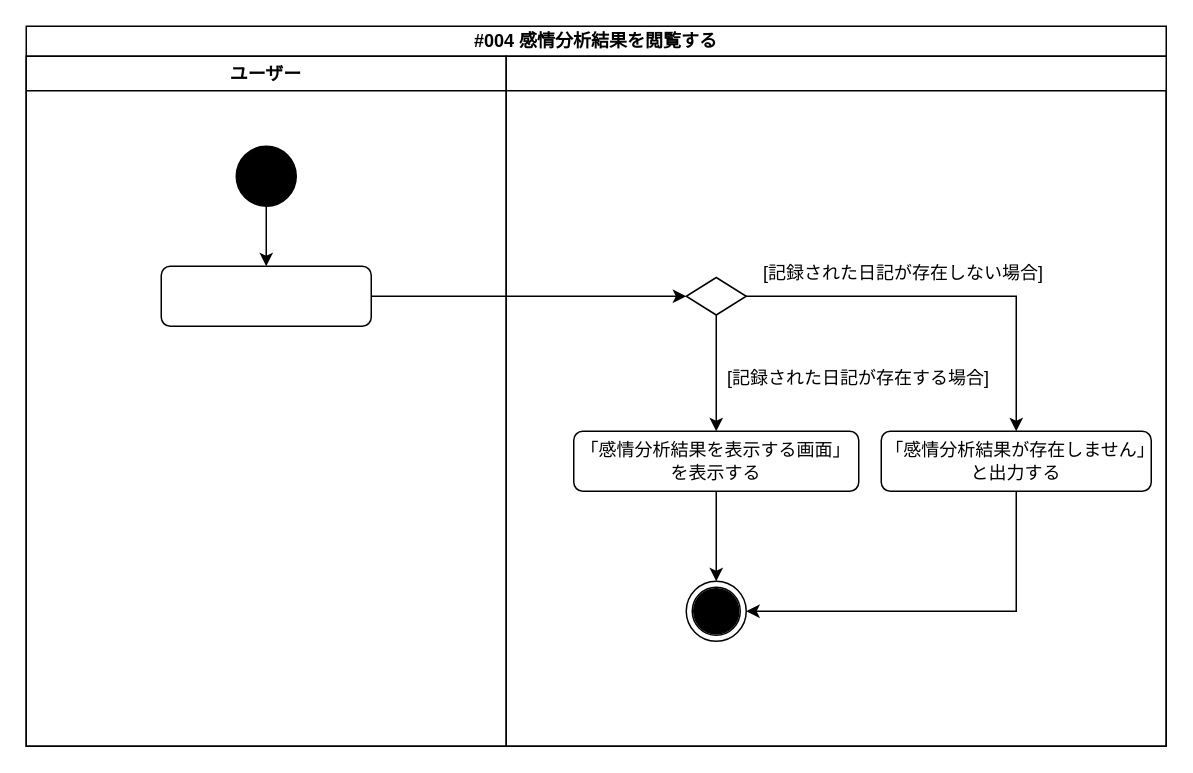
This 1193x773 diagram has some shape labels left out. The box of each missing label's shape, as (x1, y1, x2, y2) in pixels:
「感情分析結果を見る」 を選択する: (160, 265, 371, 326)
システム: (505, 55, 1166, 746)
